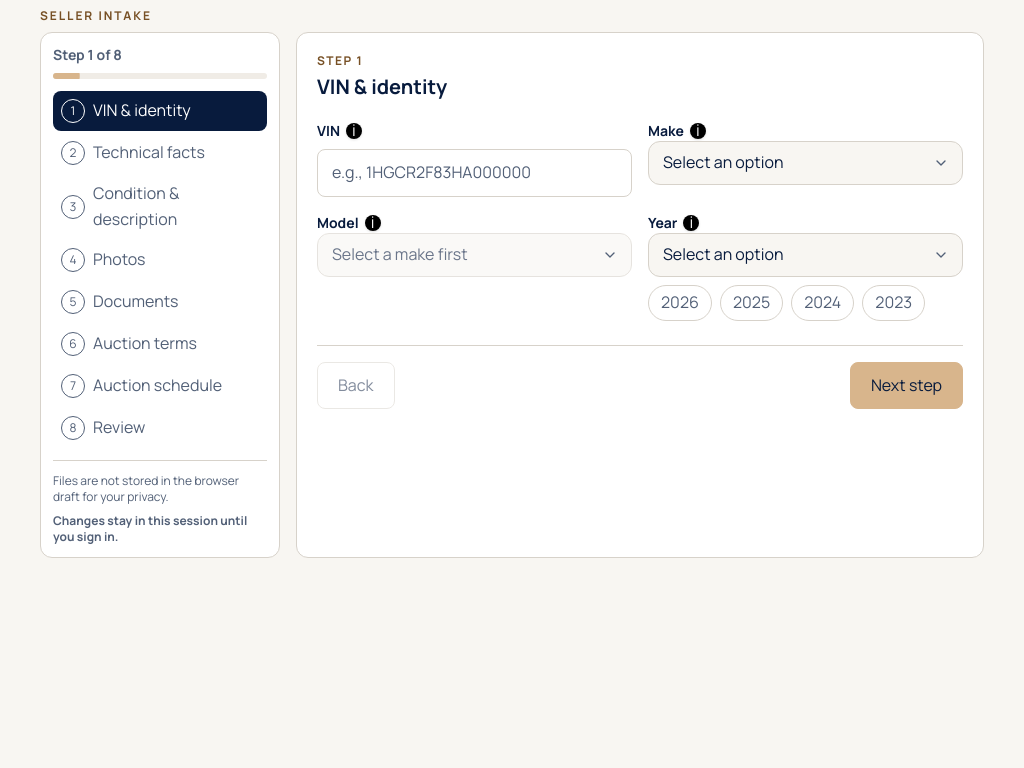
Scenario: vehicle seller wizard › limits VIN input to 17 characters
Step 1. Type "WVWZZZ1JZXW000001EXTRA" into the field labelled "VIN" → (474, 173), box x1=317 y1=149 x2=632 y2=197
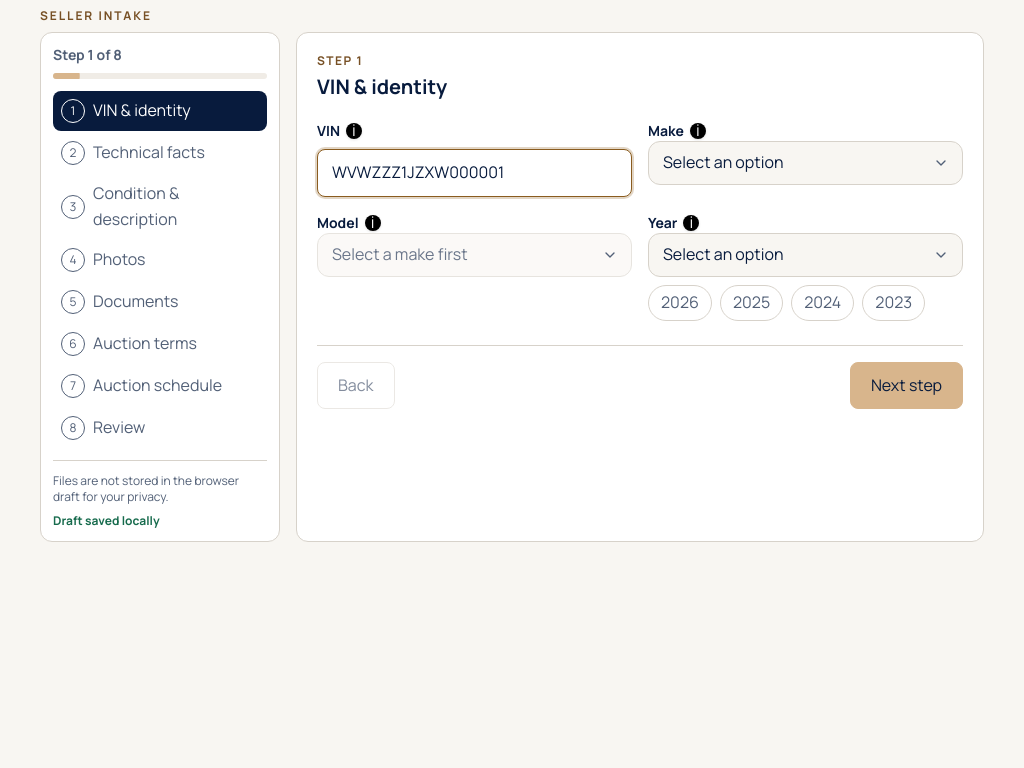
Now the field labelled "VIN" holds "WVWZZZ1JZXW000001", box x1=317 y1=149 x2=632 y2=197
